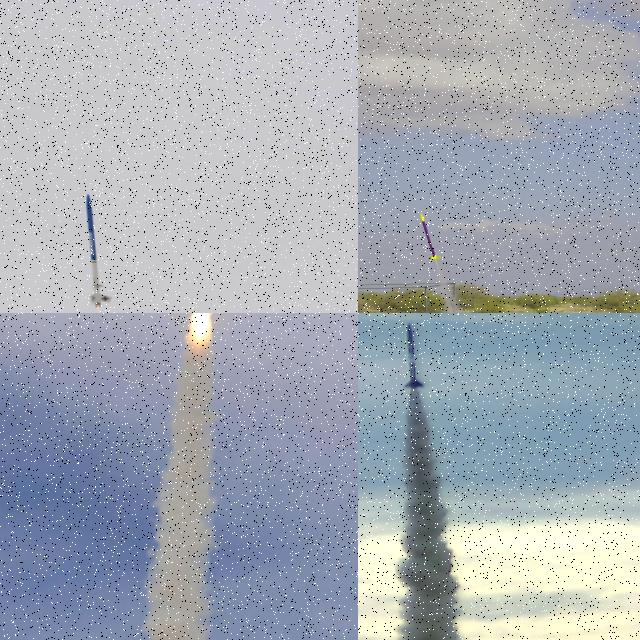Rocket: (83, 194, 113, 308), (403, 323, 423, 389), (419, 213, 442, 260)
